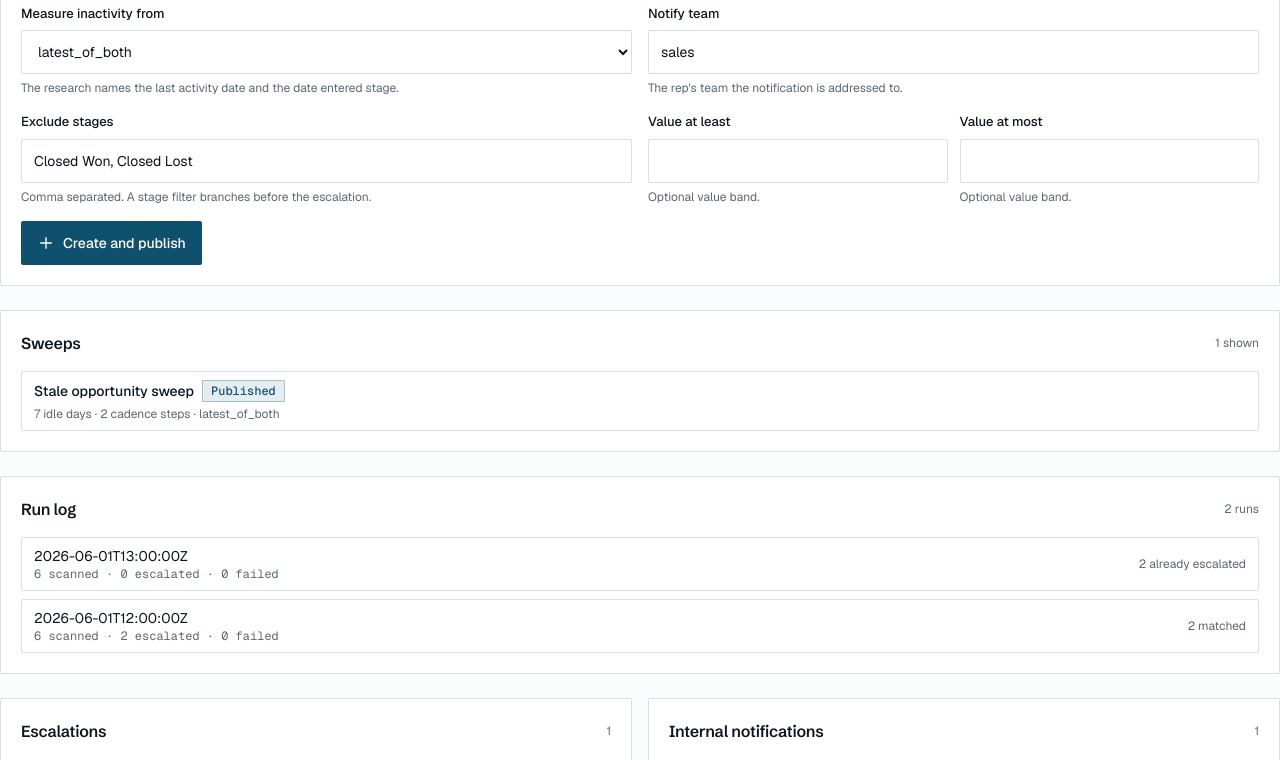
Test case: the page › runs the sweep and shows the run results
The image size is (1280, 760).
(page scrolled)
Click the button "Stale opportunity sweep".
click(114, 391)  # box [21,371,1259,431]
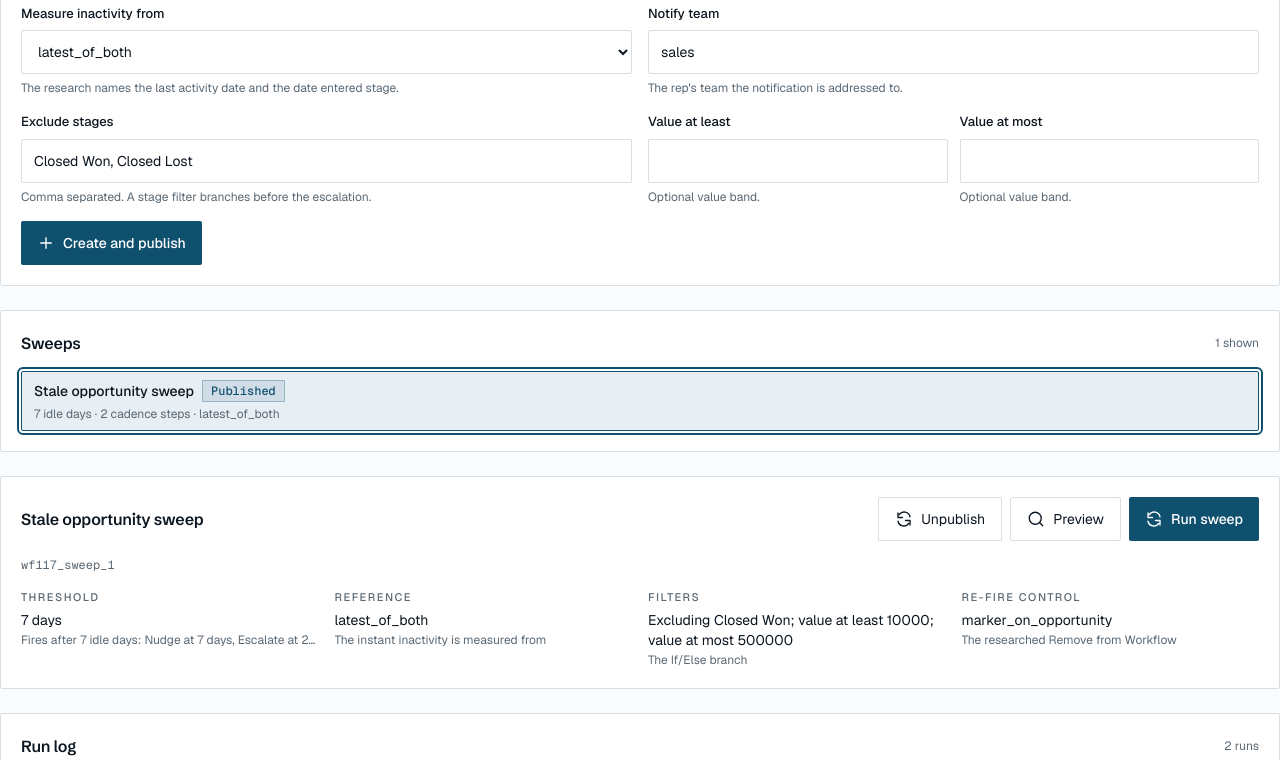
Click the button "Run sweep".
click(1194, 519)  # box [1129,497,1259,541]
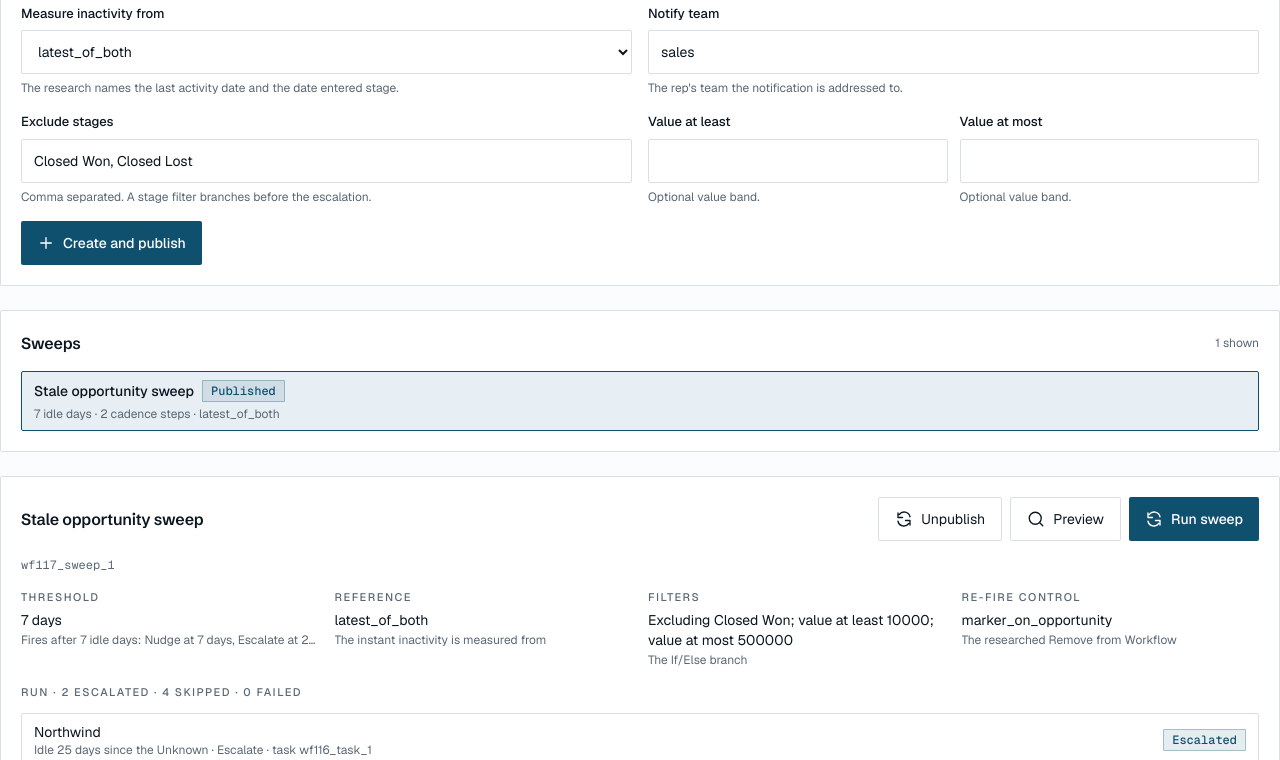
Expected: the text "task wf116_task_1" is shown, [264,742,372,758]
